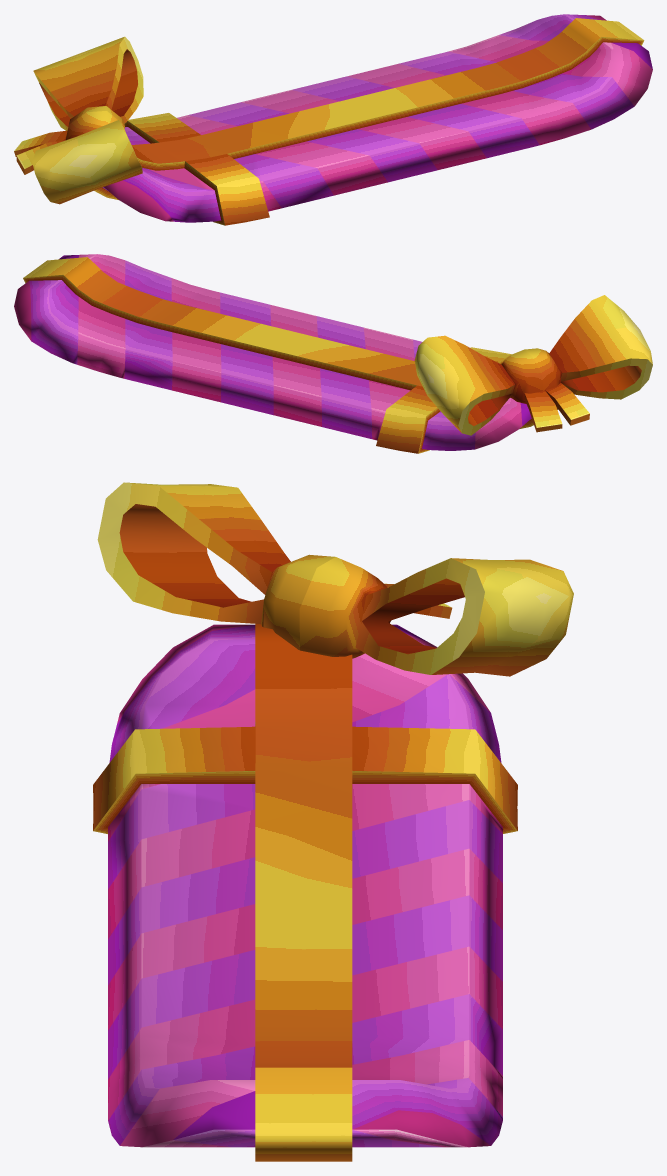
The model's file is birthdayBoard01.glb.
3 renders of one model, top to bottom at view 1: azimuth 30°, elevation 25°; view 2: azimuth 150°, elevation 25°; view 3: azimuth 270°, elevation 25°, orthographic. The views are drawn at different scales.
Visible parts, largest first — view 1: birthdayBoard01; view 2: birthdayBoard01; view 3: birthdayBoard01.
Part boxes in pixels (box(x1,y1,x2,y2)): birthdayBoard01: box(14, 14, 652, 225); birthdayBoard01: box(14, 254, 652, 453); birthdayBoard01: box(93, 482, 573, 1161).
Size of the model in its own units: 9.54 by 1.78 by 3.36.
Materials: 1 (1 with a texture image).
